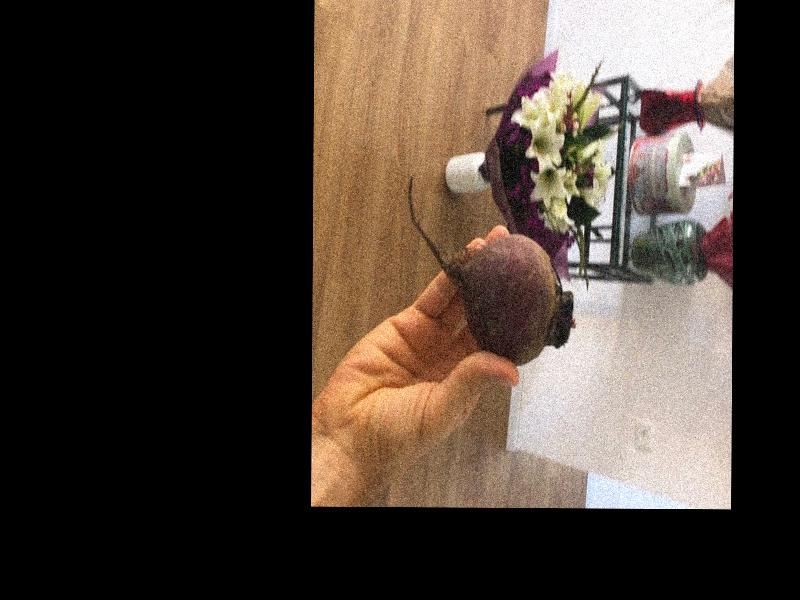Beet: (407, 171, 575, 365)
